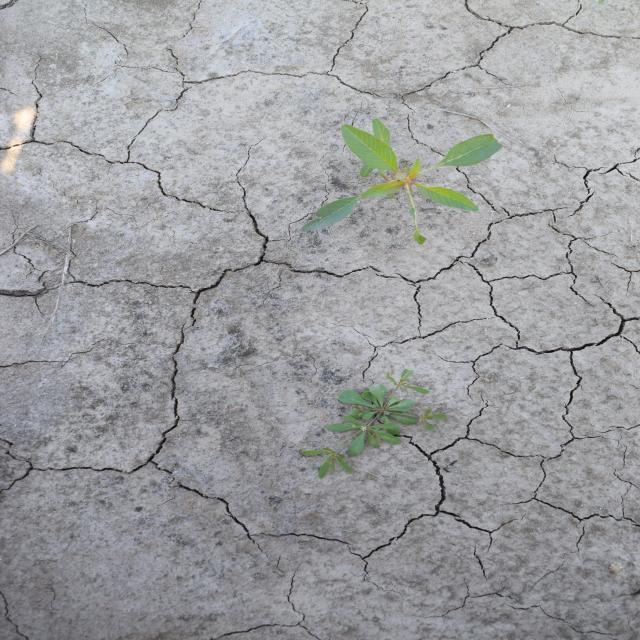Carpetweed: (297, 367, 448, 481)
Waterhemp: (299, 116, 505, 247)
